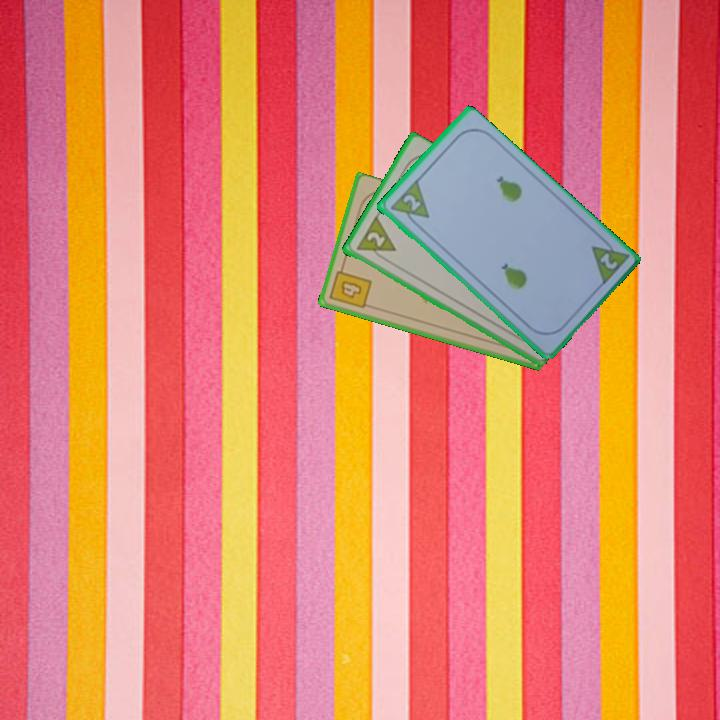2p: (386, 177, 432, 231), (352, 214, 398, 266), (595, 249, 620, 273)
4b: (326, 261, 375, 312)
